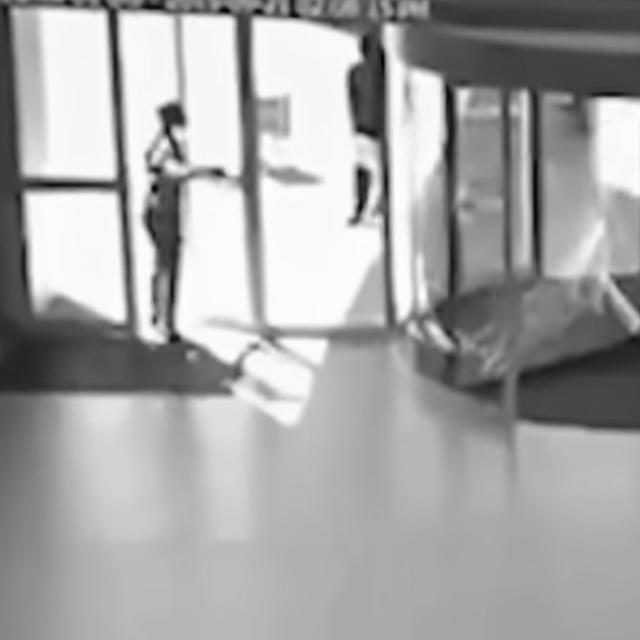Invader: (139, 99, 227, 343), (340, 26, 394, 242)
